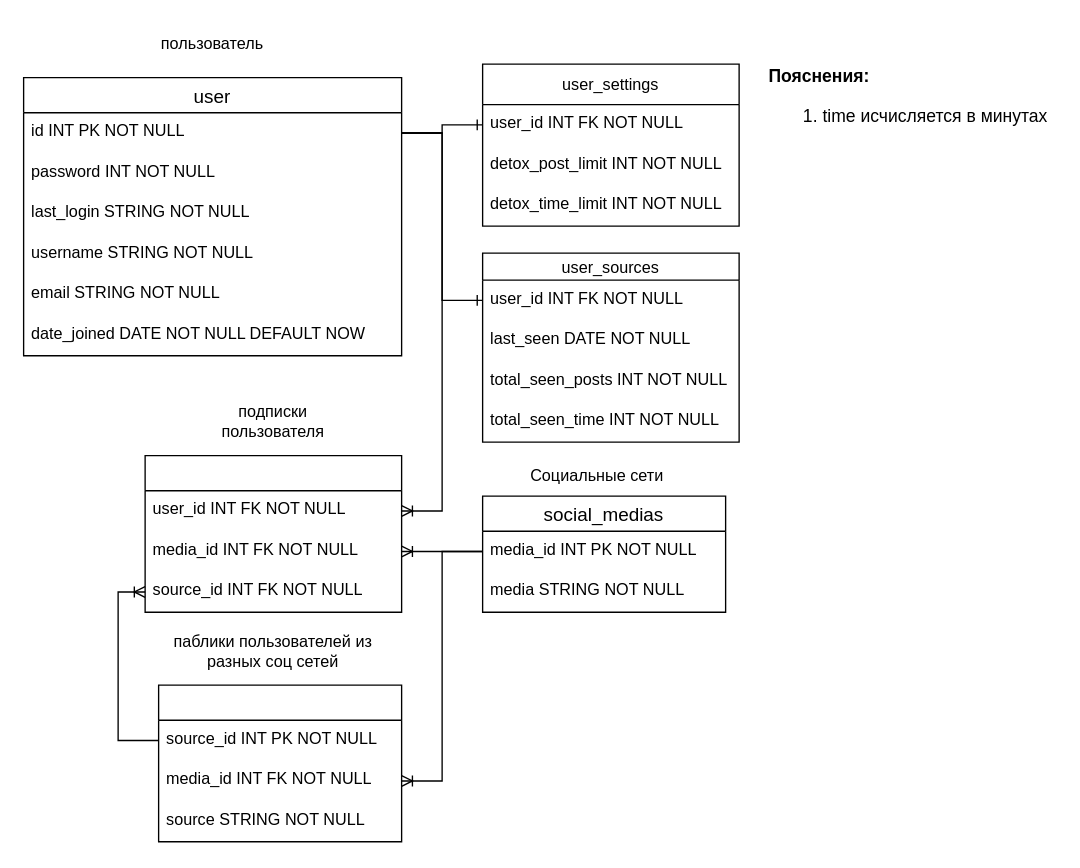
The diagram is 1080 pixels wide and 868 high, and some of its shapes have lost their labels. Here are the shapes that lost their labels. From the top down, the box of each, then its label:
(144, 454, 402, 612): subscribes
(157, 684, 402, 842): social_media_public
